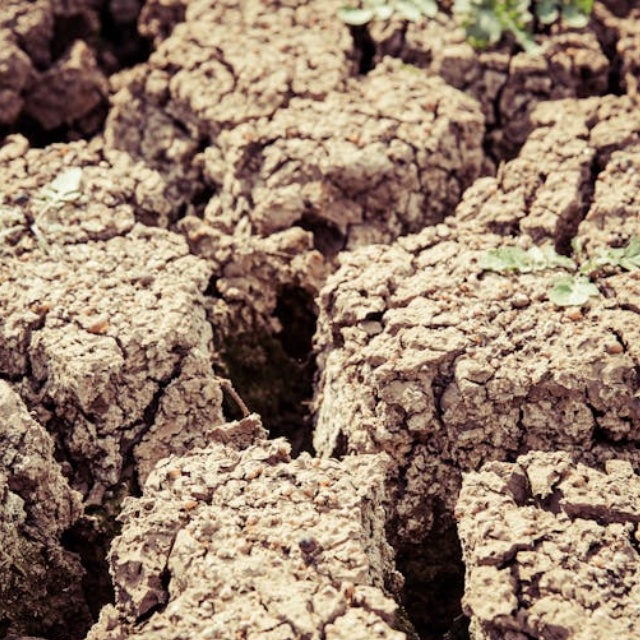深大裂缝: (136, 190, 424, 524), (0, 13, 232, 203), (298, 506, 624, 640)
